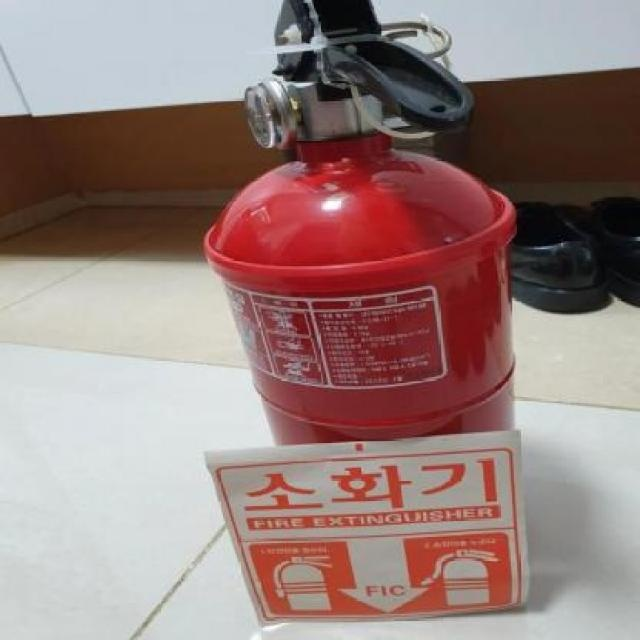fire extinguisher: (204, 0, 516, 448)
